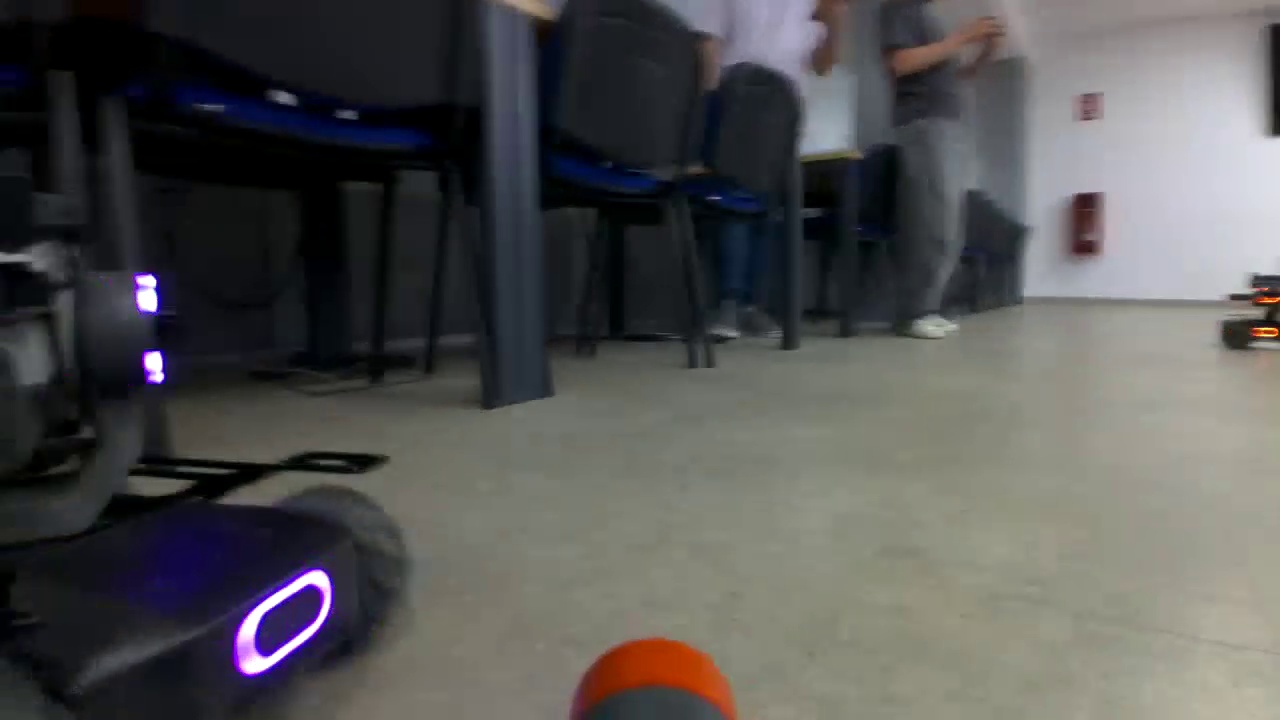robot: (1, 215, 400, 705), (1224, 272, 1280, 352)
